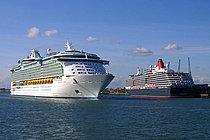Ship: (10, 56, 111, 103), (127, 64, 205, 101)
